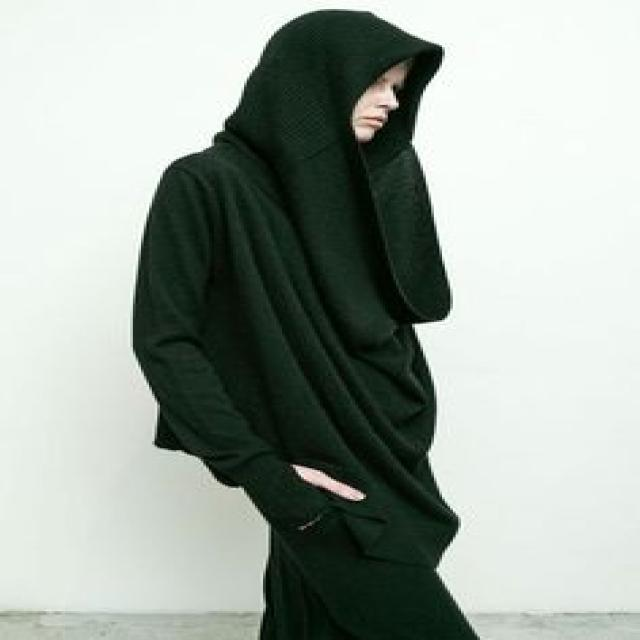4_capucha: (210, 8, 444, 178)
